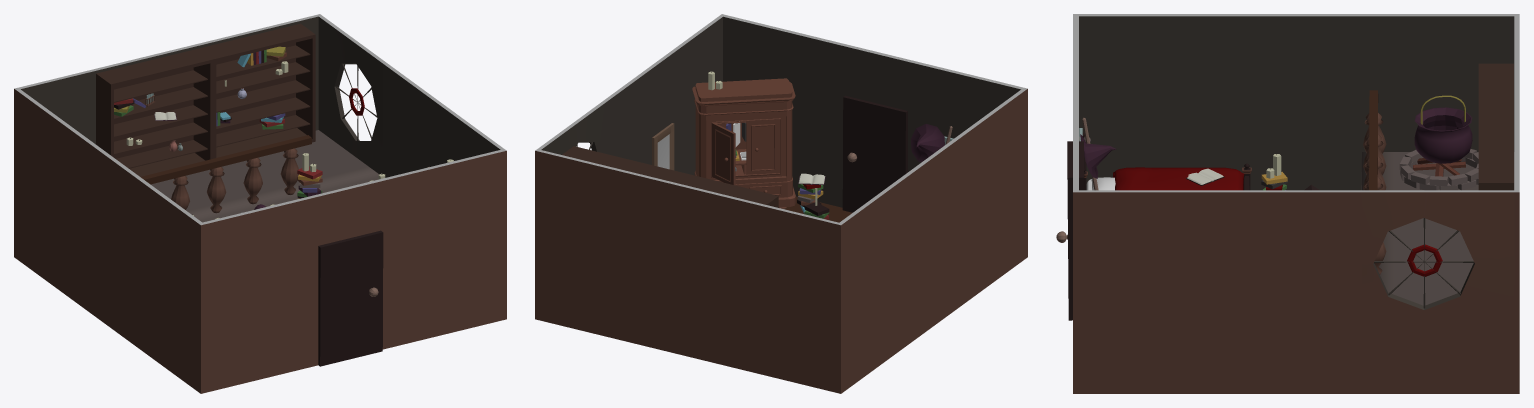
Rendered from mayaHeksKamer2.fbx.
3 views of the same model, side by side, from view 1: azimuth 30°, elevation 25°; view 2: azimuth 150°, elevation 25°; view 3: azimuth 270°, elevation 25° (orthographic). The views are drawn at different scales.
Parts seen in each view (by area): view 1: pCube1, kast4, kast3, pCube9, pCube2, pCylinder4, pCylinder5, pCylinder6, pCylinder3, pCube88; view 2: pCube1, kast_gefikst3:kast_gefixt3:polySurface79, pCube9, kast4, kast3, heksenhoed:pCone1, pCube70; view 3: pCube1, bedEnKetel:pCylinder71, bedEnKetel:polySurface34, kast3, kast4, pCube9, pCube2, heksenhoed:pCone1, pTorus1.
Boxes of the visible parts, x1,y1,x2,y2 form: pCube1: [14, 14, 506, 393]; kast4: [96, 48, 213, 176]; kast3: [198, 23, 315, 158]; pCube9: [318, 230, 383, 366]; pCube2: [140, 135, 311, 184]; pCylinder4: [243, 157, 262, 204]; pCylinder5: [207, 167, 226, 213]; pCylinder6: [280, 148, 298, 194]; pCylinder3: [171, 176, 189, 209]; pCube88: [297, 166, 322, 187]; pCube1: [535, 14, 1027, 393]; kast_gefikst3:kast_gefixt3:polySurface79: [692, 78, 795, 209]; pCube9: [842, 95, 907, 212]; kast4: [664, 171, 778, 207]; kast3: [562, 146, 675, 179]; heksenhoed:pCone1: [910, 124, 944, 162]; pCube70: [652, 123, 674, 170]; pCube1: [1073, 14, 1519, 393]; bedEnKetel:pCylinder71: [1399, 95, 1478, 190]; bedEnKetel:polySurface34: [1079, 133, 1251, 190]; kast3: [1478, 123, 1513, 190]; kast4: [1478, 63, 1513, 123]; pCube9: [1067, 141, 1084, 320]; pCube2: [1369, 90, 1378, 190]; heksenhoed:pCone1: [1080, 134, 1116, 178]; pTorus1: [1407, 244, 1442, 276].
Size of what is drawn, in the model's own units: 5.98 by 3.15 by 6.55.
